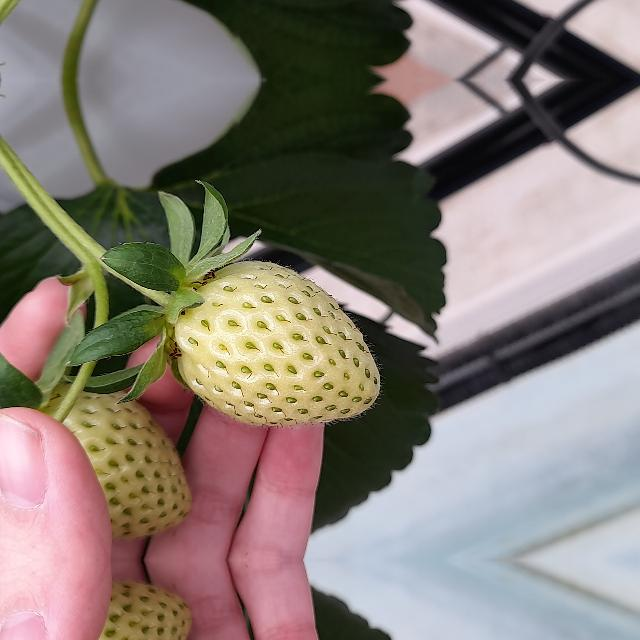Health_25: (174, 260, 380, 426), (31, 376, 195, 534), (31, 585, 195, 640)
